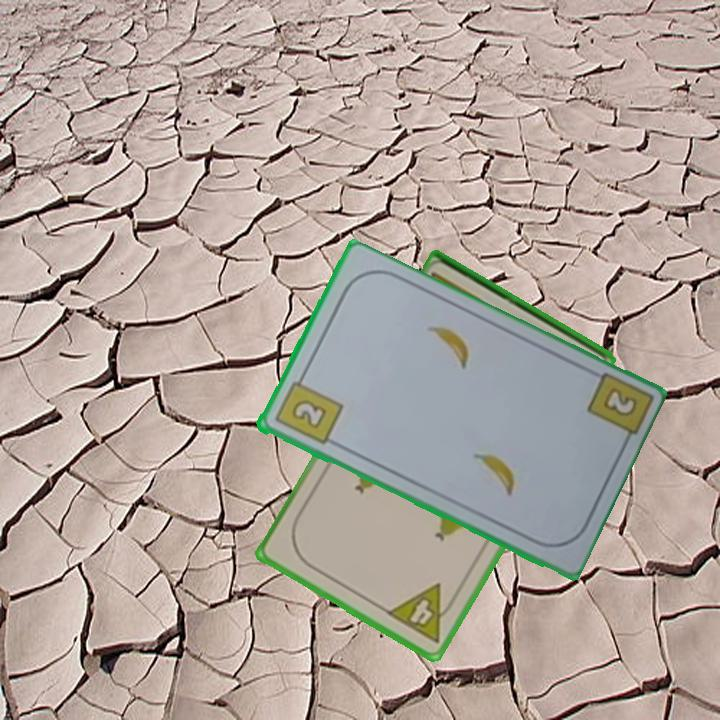2b: (270, 370, 345, 448), (598, 383, 637, 417)
4p: (383, 580, 461, 646)
